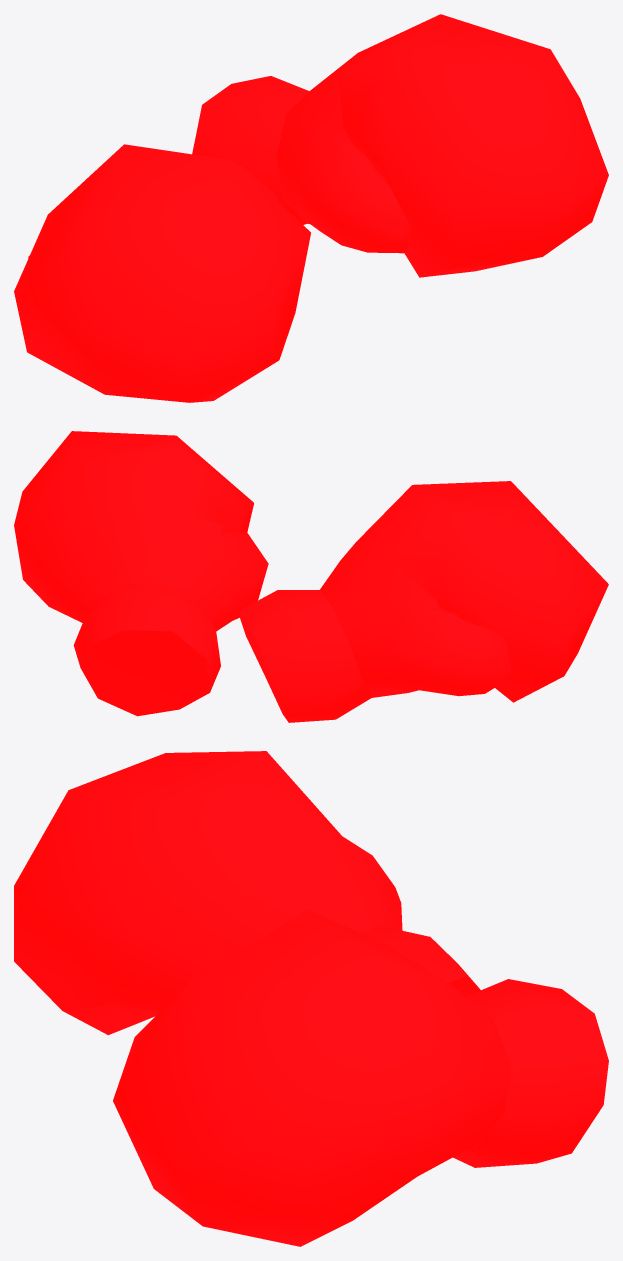
Rendered from Boxer_Gloves.fbx.
3 views of the same model, one above another, from view 1: azimuth 30°, elevation 25°; view 2: azimuth 150°, elevation 25°; view 3: azimuth 270°, elevation 25° (orthographic). The views are drawn at different scales.
Parts seen in each view (by area): view 1: Boxer_gloves; view 2: Boxer_gloves; view 3: Boxer_gloves.
Boxes of the visible parts, left/top/right/bottom form: Boxer_gloves: left=14, top=14, right=608, bottom=402; Boxer_gloves: left=14, top=431, right=608, bottom=722; Boxer_gloves: left=14, top=751, right=608, bottom=1246.
Size of the model in its own units: 189 by 73.16 by 132.
